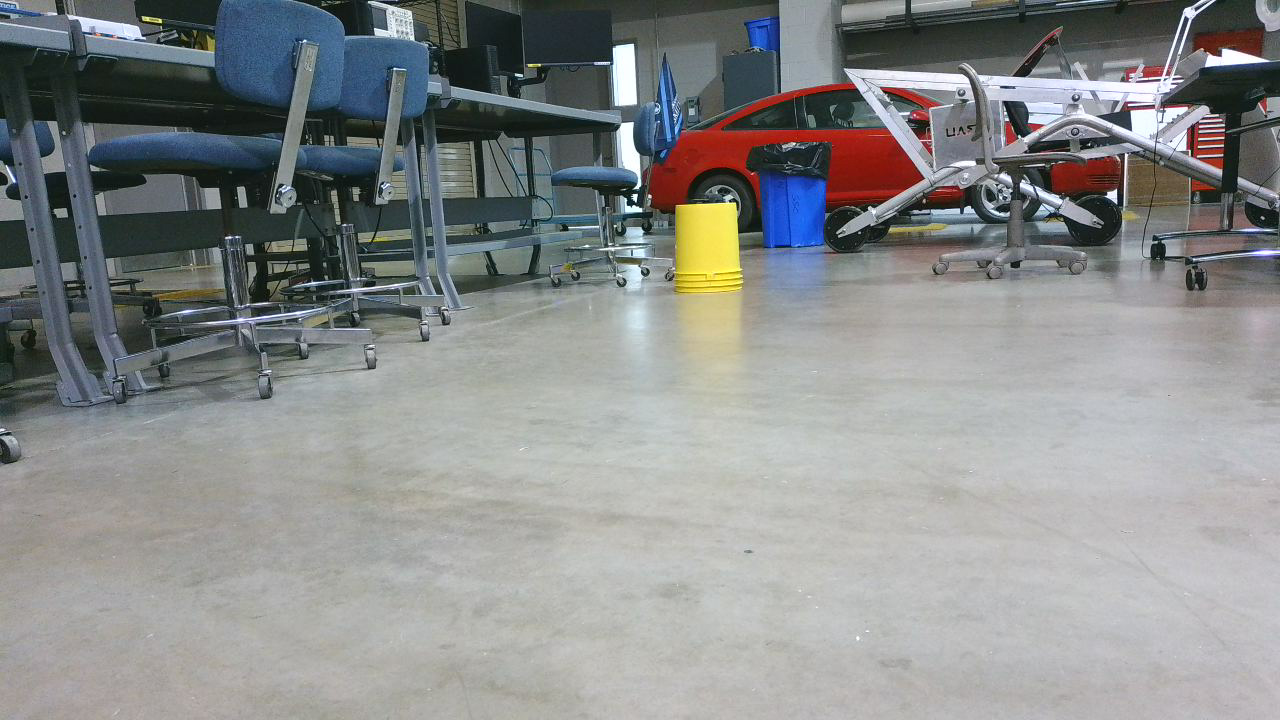yellow_bucket: (680, 206, 749, 297)
